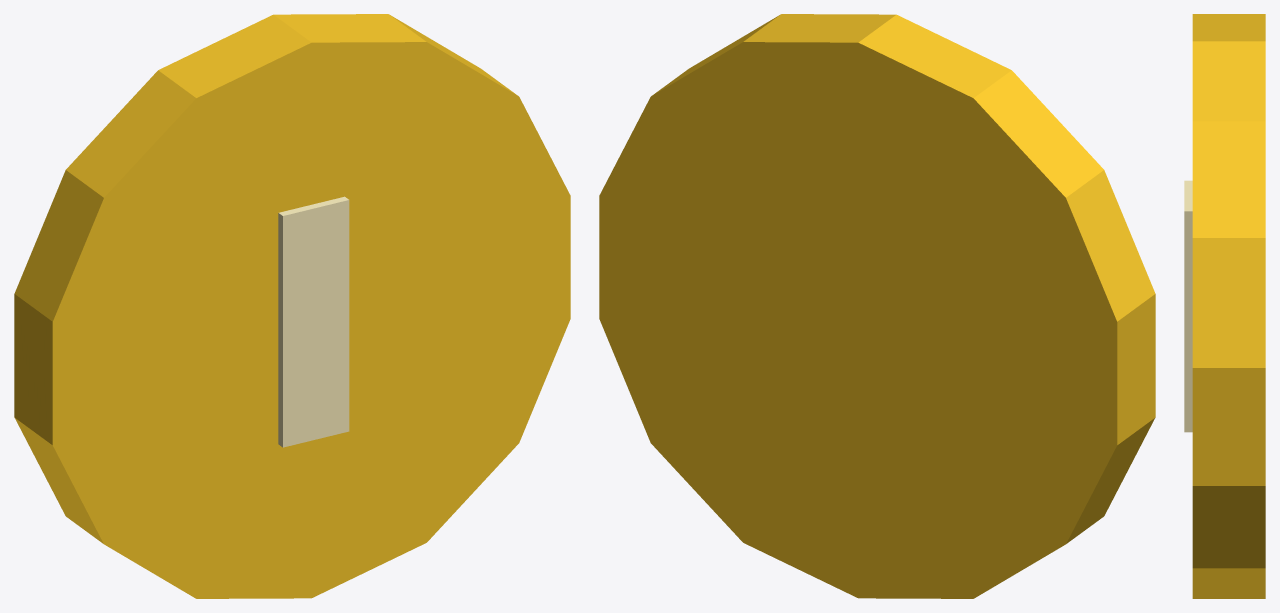
File: coin.obj
3 renders of one model, left to right at view 1: azimuth 30°, elevation 25°; view 2: azimuth 150°, elevation 25°; view 3: azimuth 270°, elevation 25°, orthographic. The views are drawn at different scales.
Visible parts, largest first — view 1: coin; view 2: coin; view 3: coin.
Part boxes in pixels (bbox=[...]): coin: bbox=[14, 14, 570, 598]; coin: bbox=[599, 14, 1155, 598]; coin: bbox=[1184, 14, 1265, 598].
Size of the model in its own units: 0.234 by 0.24 by 0.0335.
